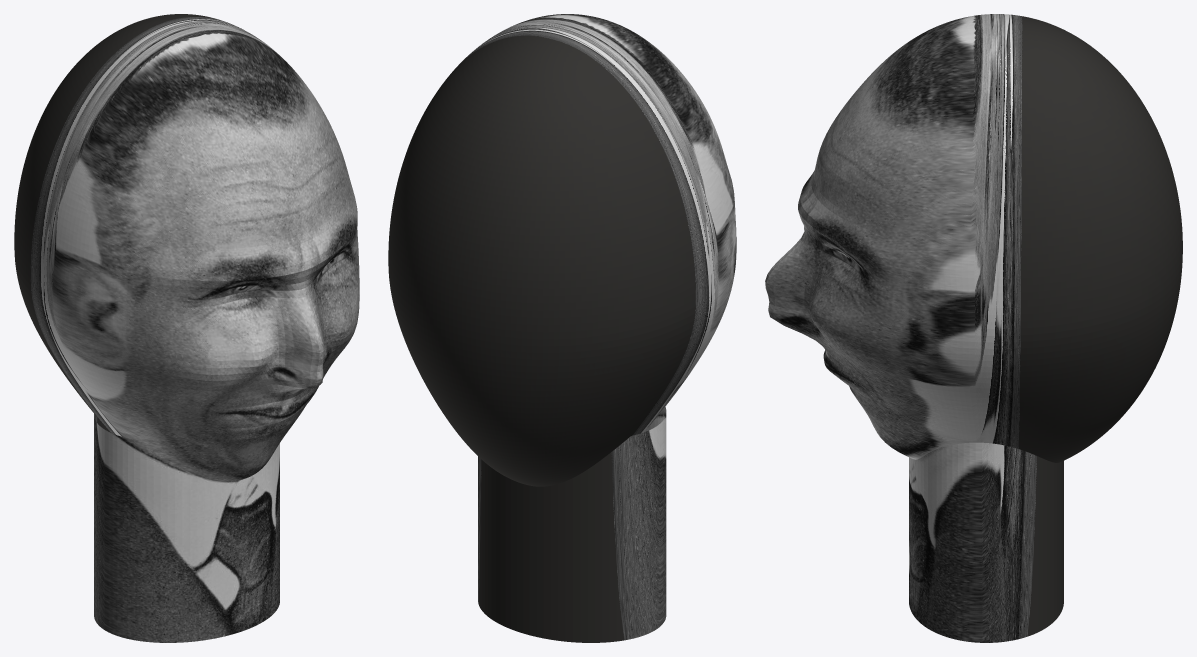
The model's file is alfred_wegener_head.glb.
3 views of the same model, side by side, from view 1: azimuth 30°, elevation 25°; view 2: azimuth 150°, elevation 25°; view 3: azimuth 270°, elevation 25° (orthographic).
Visible parts, largest first — view 1: geometry_0; view 2: geometry_0; view 3: geometry_0.
Boxes of the visible parts, left/top/right/bottom form: geometry_0: left=14, top=14, right=359, bottom=642; geometry_0: left=388, top=14, right=736, bottom=642; geometry_0: left=765, top=14, right=1182, bottom=642.
Size of the model in its own units: 0.2925 by 0.5558 by 0.3637.
1 material, 1 textured.
